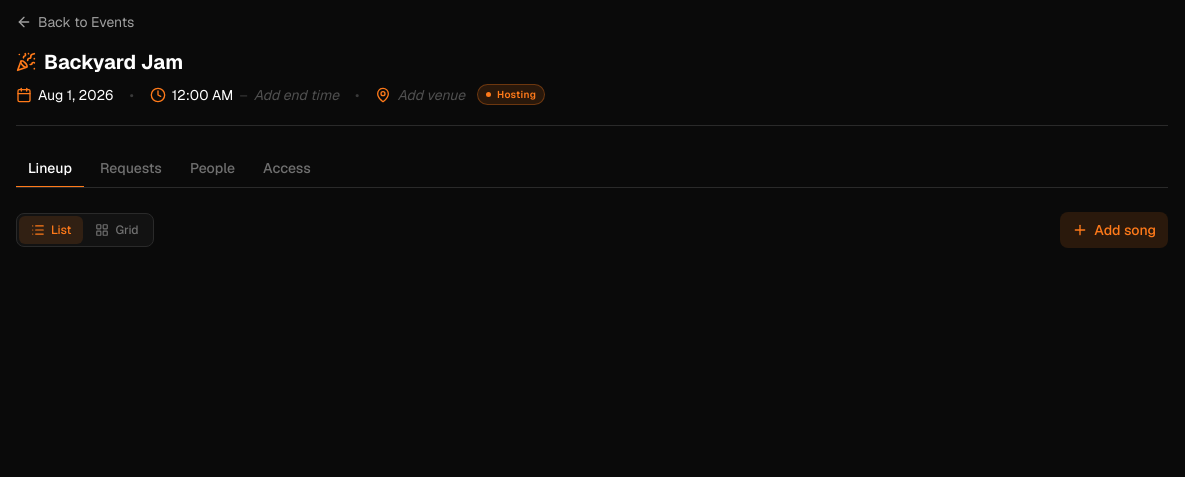
EventDetailPage — list/grid toggle moved to the Lineup tab (6g) › does not render the toggle on the Requests tab
What coordinates should you click on to do the following:
click the button with test id "event-tab-requests"
I would click on:
 (131, 169)
Its box is x1=88 y1=150 x2=174 y2=188.
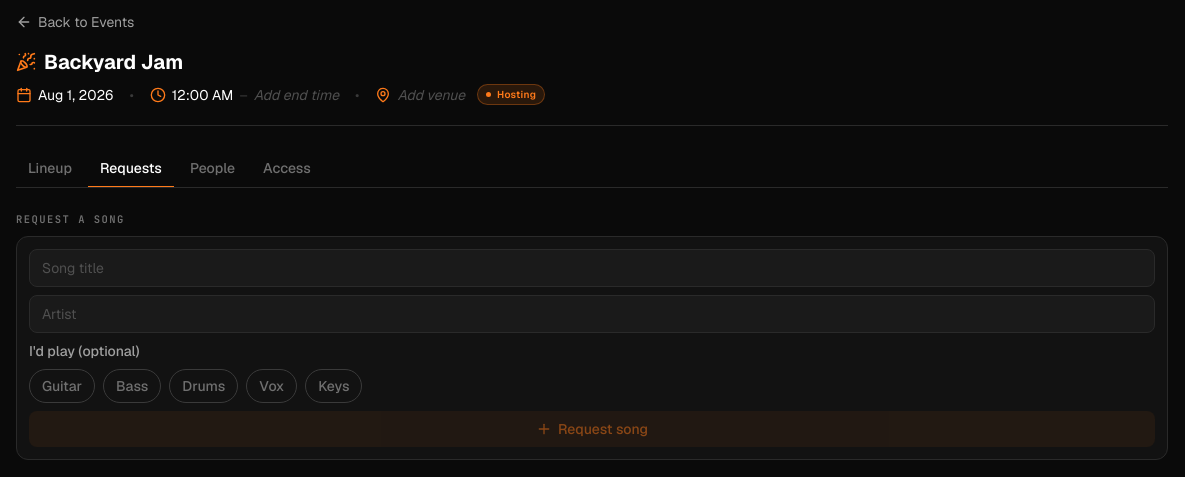
Expected: the element with test id "cast-view-toggle" is gone
